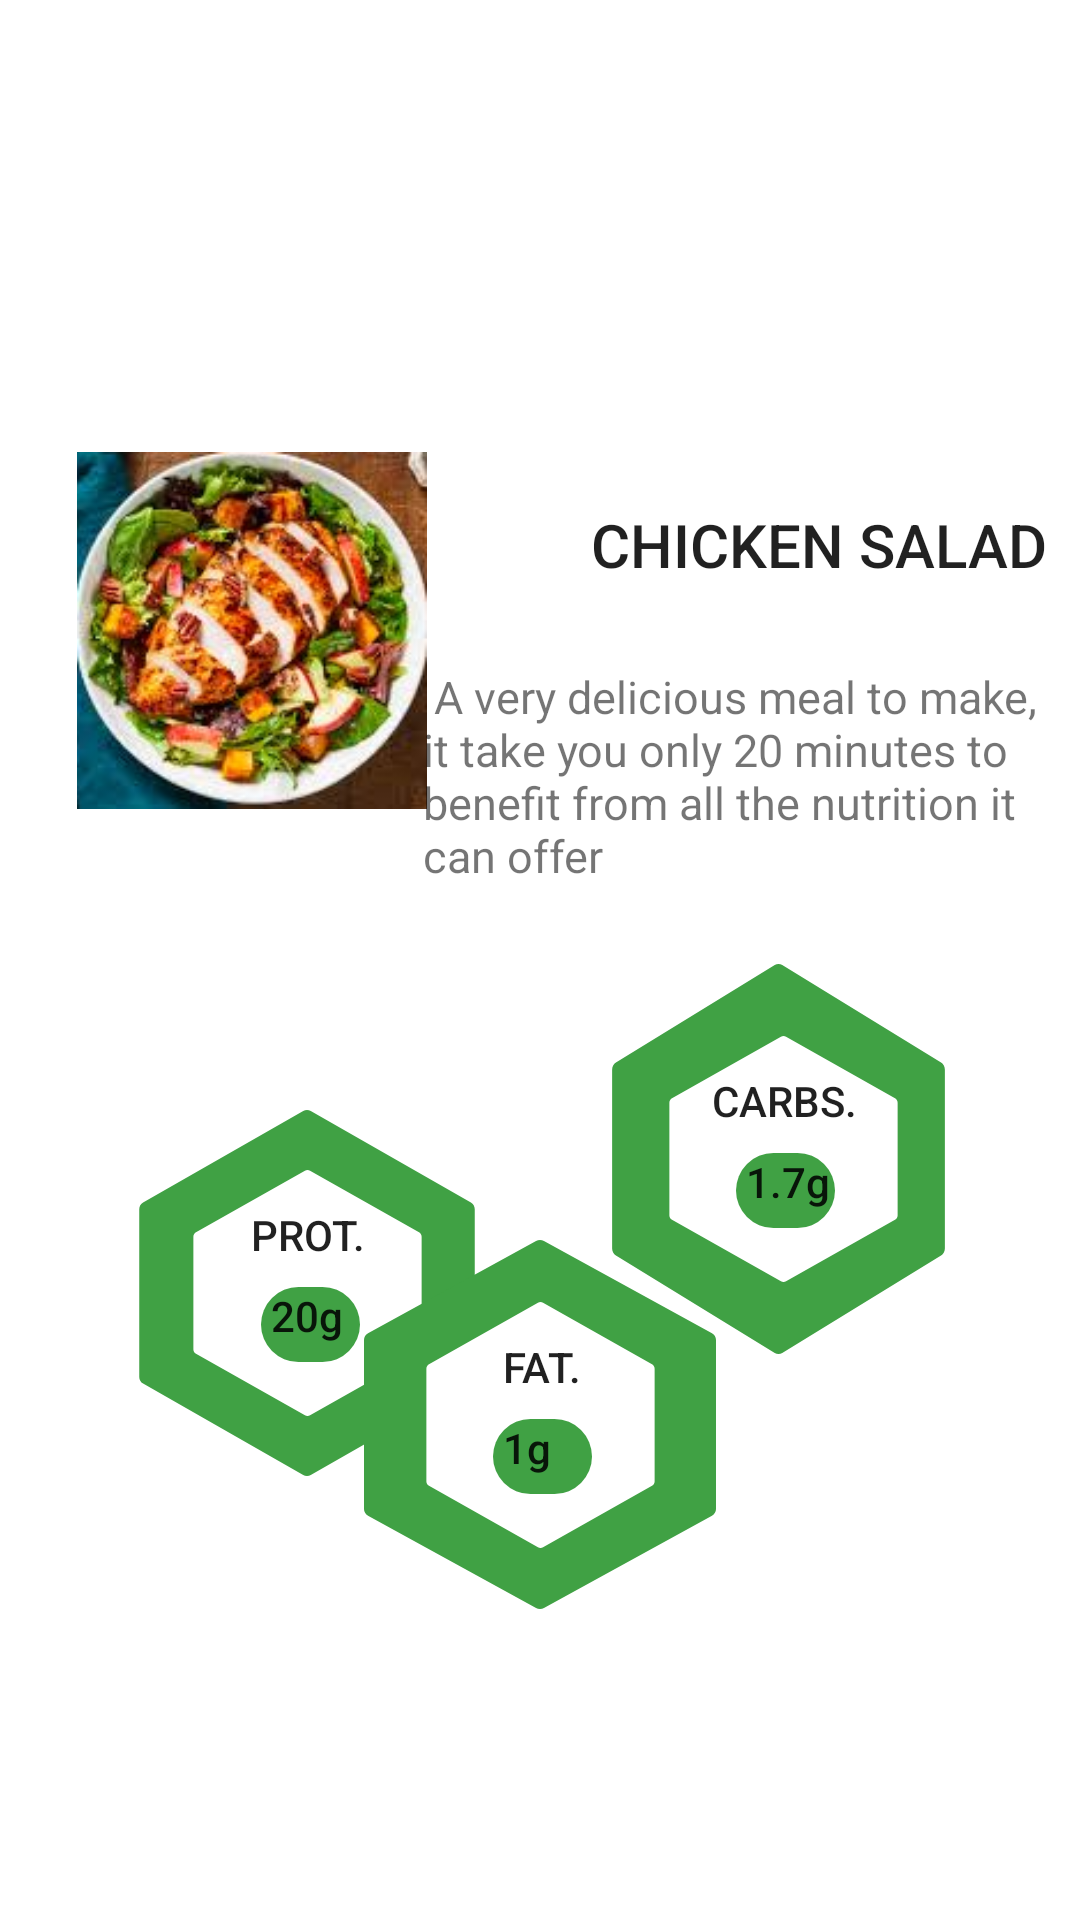

Icon bounding boxes for this 1080*1920 phone screenshot, format box=[x1, y1, x2, y2]:
salad cropped square: box=[77, 452, 435, 809]
